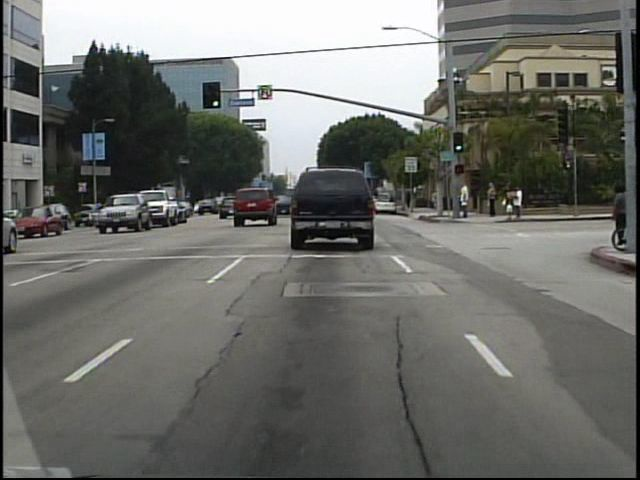person: (457, 178, 473, 221), (486, 179, 501, 221), (403, 186, 415, 214)
